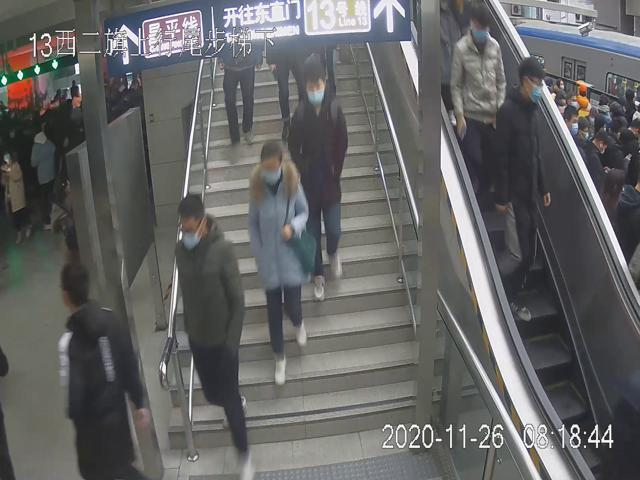person: (174, 190, 255, 480), (247, 139, 316, 386), (495, 54, 552, 322), (287, 51, 348, 299), (450, 2, 508, 200)
